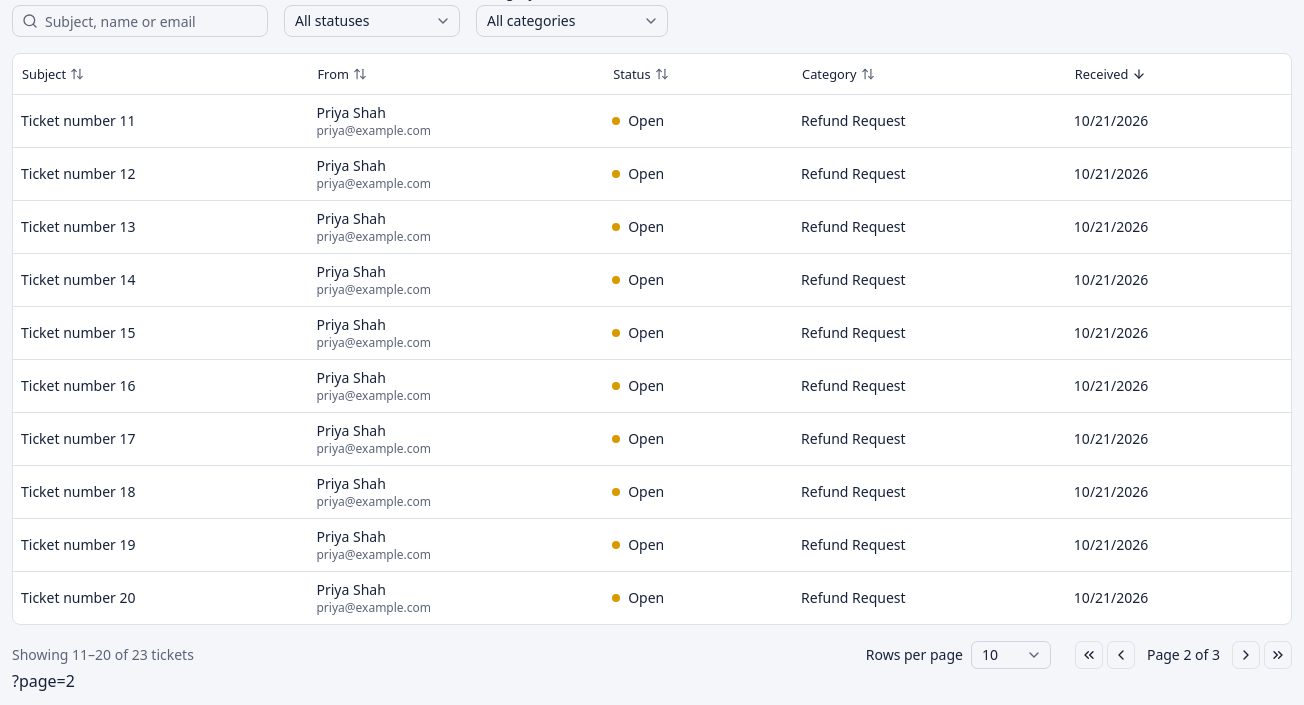
Test: TicketsTable › pagination › changing the rows per page goes back to page 1
Check: the link "Ticket number 11" is shown, box x1=21 y1=110 x2=136 y2=130
Click the dropdown named "Rows per page" at point(1011, 654), box x1=971 y1=640 x2=1051 y2=668
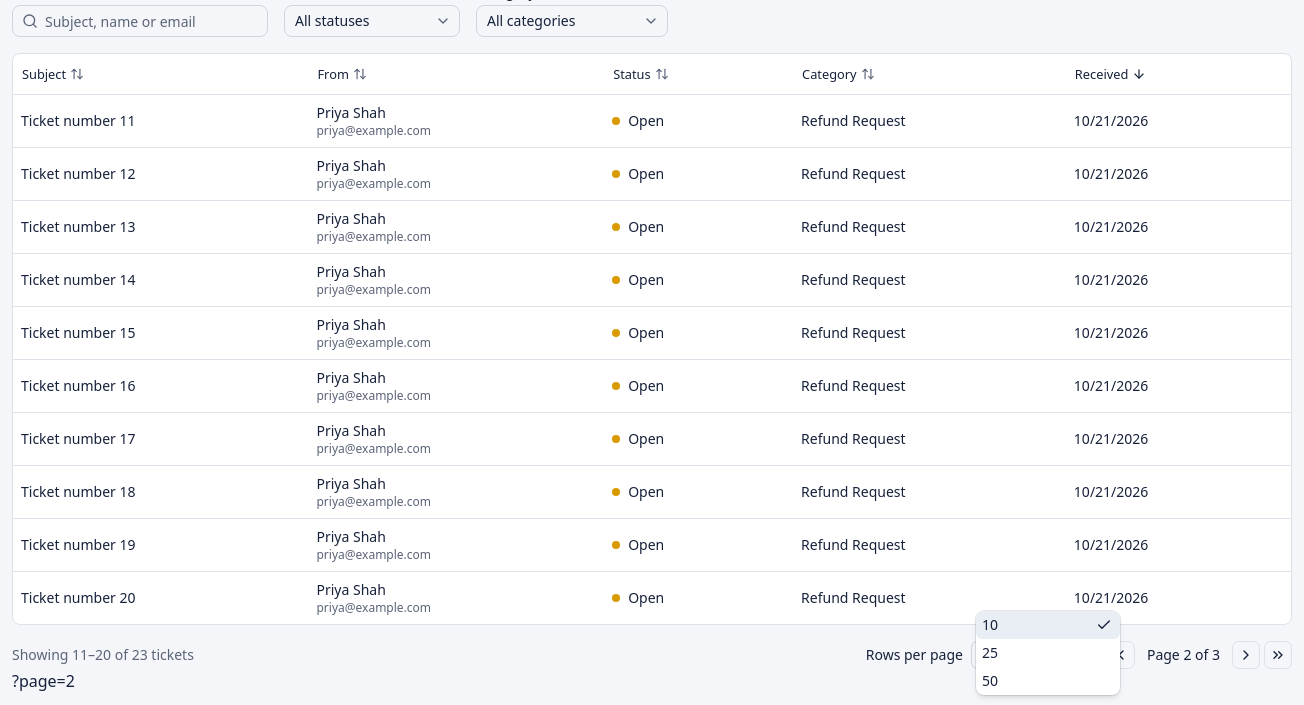
Click the option "25" at point(990, 652), box x1=982 y1=643 x2=998 y2=662
(page scrolled)
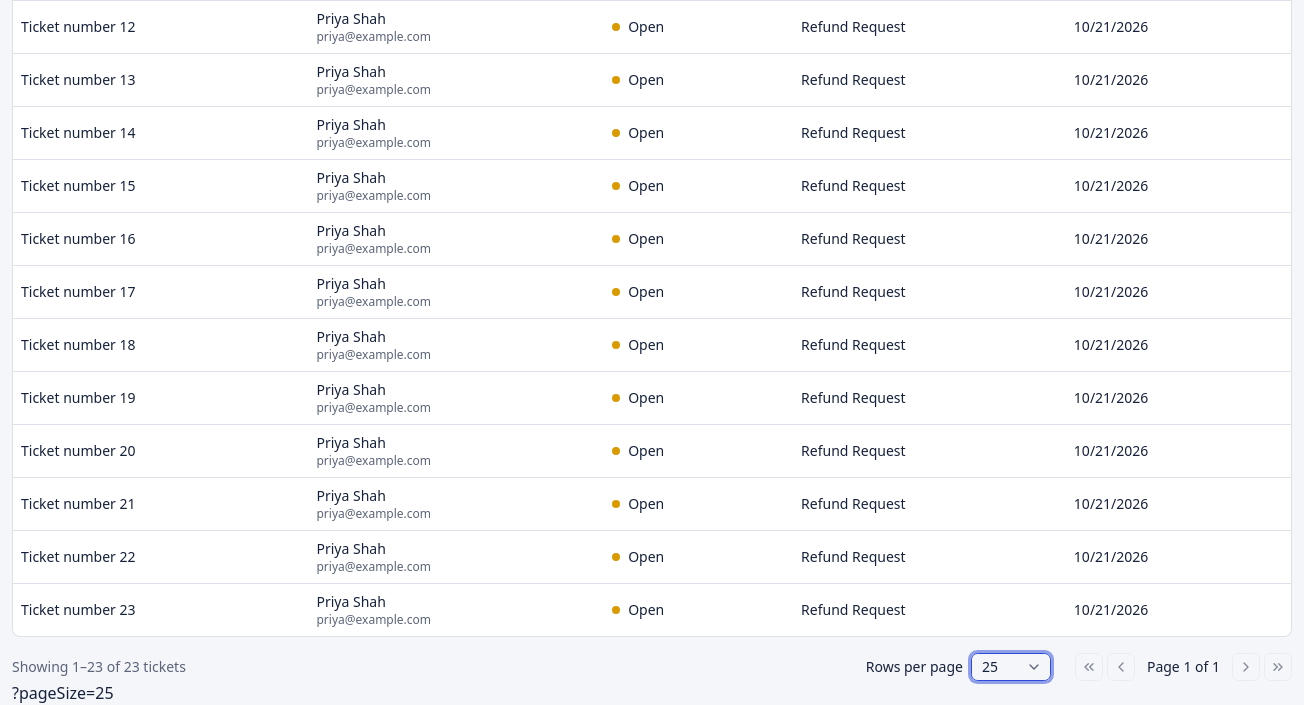
Check: the link "Ticket number 23" is shown, box x1=21 y1=600 x2=136 y2=618
Check: the text with test id "location-search" reads "?pageSize=25", box x1=12 y1=682 x2=114 y2=704
Check: the text "Showing 1–23 of 23 tickets" is shown, box x1=12 y1=656 x2=186 y2=676
